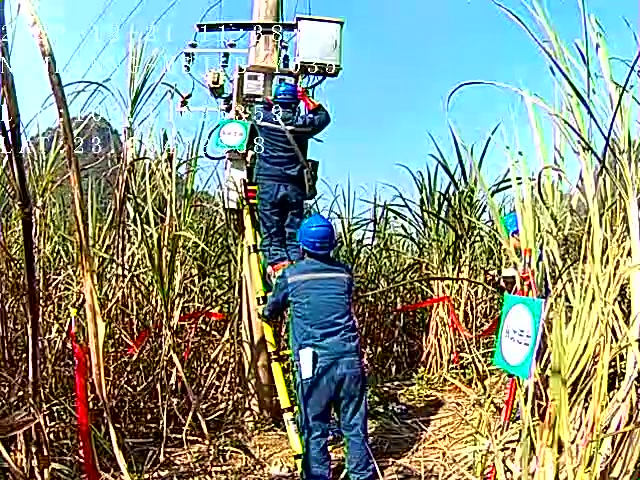halt: (299, 217, 340, 261)
